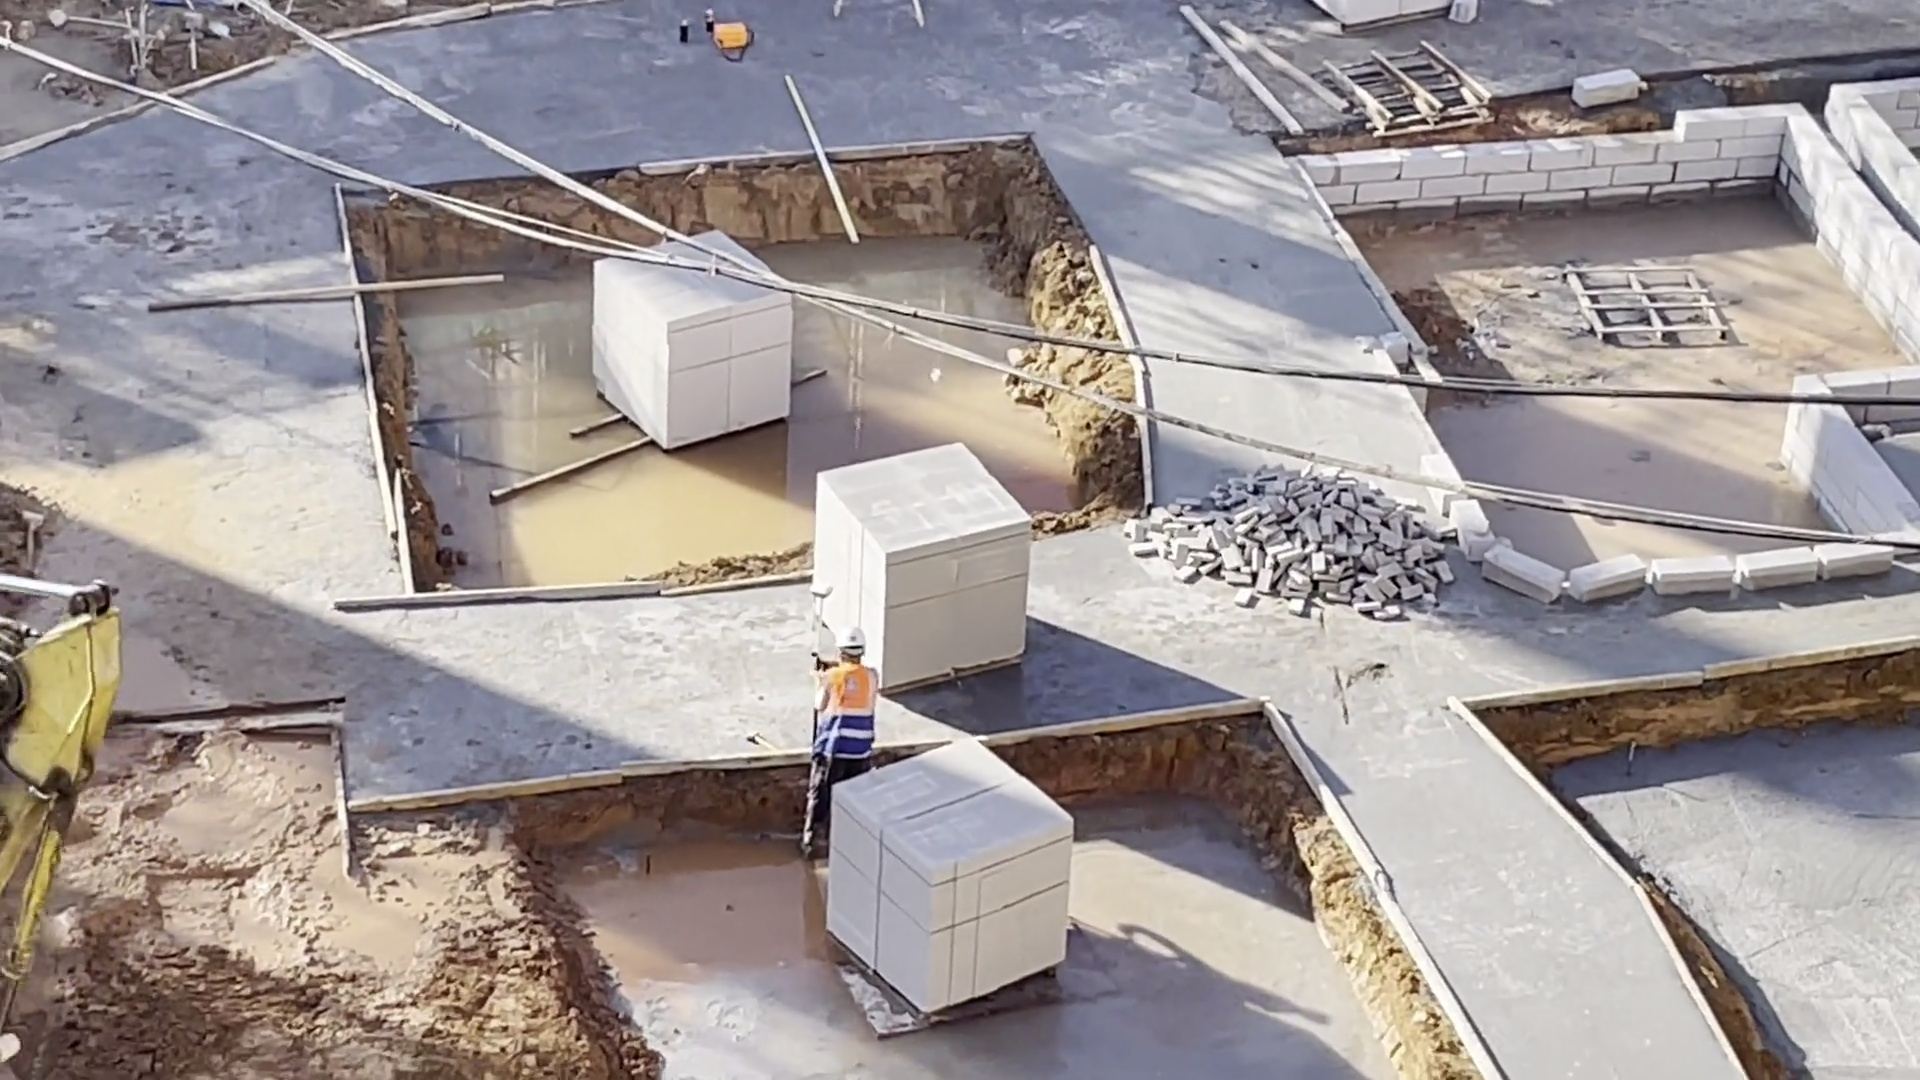brick: (824, 738, 1078, 1028), (1124, 456, 1463, 625), (805, 438, 1035, 682), (578, 229, 799, 457)
helmet: (832, 620, 867, 663)
person: (806, 625, 872, 872)
vest: (820, 659, 877, 768)
